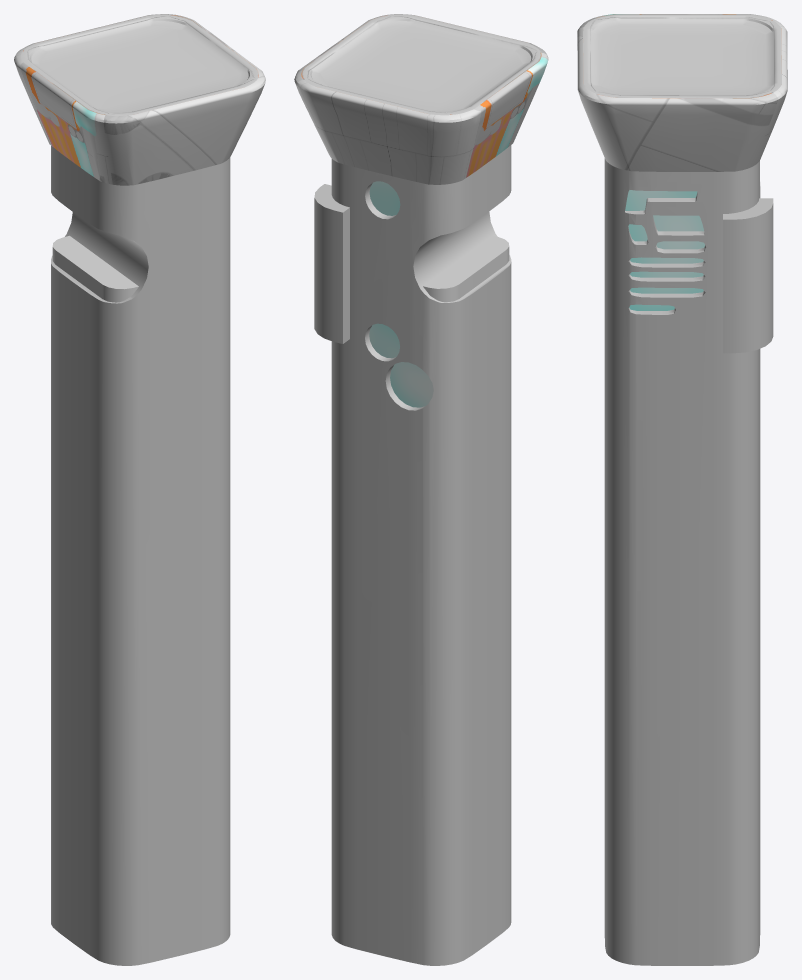
3 views of the same model, side by side, from view 1: azimuth 30°, elevation 25°; view 2: azimuth 150°, elevation 25°; view 3: azimuth 270°, elevation 25° (orthographic).
Visible parts, largest first — view 1: Base, TopBanner; view 2: Base, TopBanner, banner; view 3: Base, TopBanner, banner.
Part boxes in pixels (box(x1,y1,x2,y2)): Base: box(21, 14, 258, 965); TopBanner: box(14, 14, 265, 185); Base: box(301, 14, 541, 965); TopBanner: box(294, 14, 548, 184); banner: box(314, 198, 342, 343); Base: box(583, 14, 781, 965); TopBanner: box(577, 14, 787, 171); banner: box(723, 203, 773, 353).
Bounding box in the file's own units: 5638 × 25899 × 5629.
